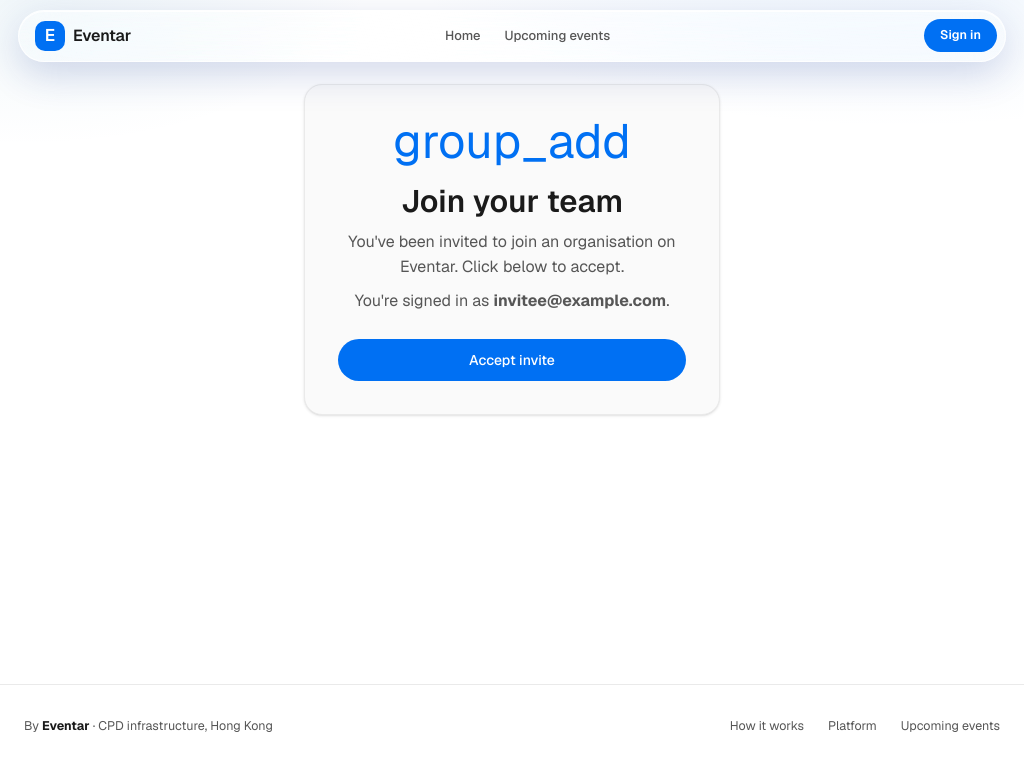
Test: invite page — signed in › the "must be signed in" error carries the same sign-in link
Click the button "Accept invite" at (512, 360), box [337,338,687,382]
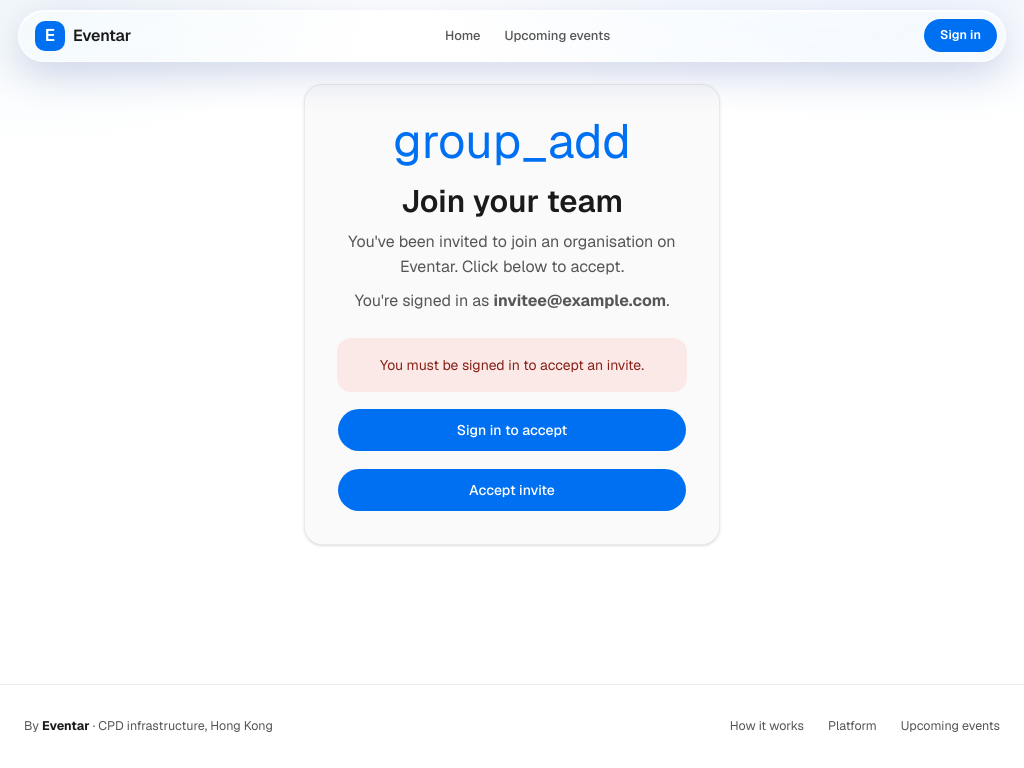
Now the message reads "You must be signed in to accept an invite.", box [380,356,644,374]
